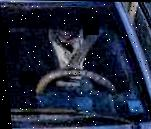seatbelt: (60, 21, 105, 68)
